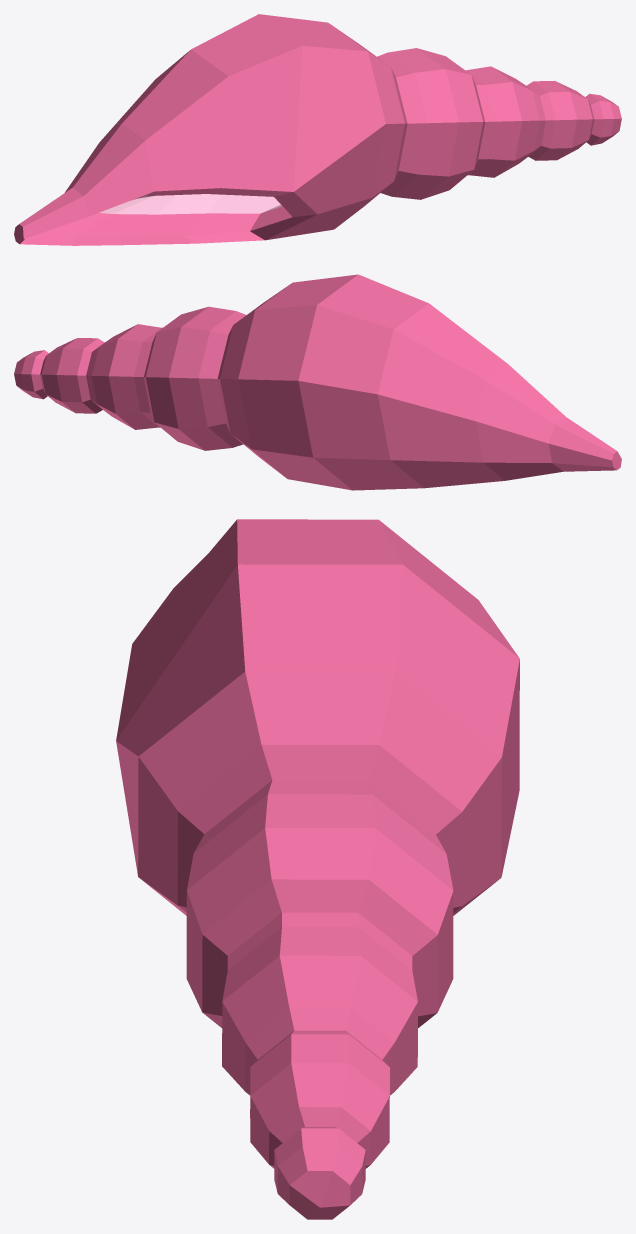
File: Coral_07.fbx
The picture shows the model from 3 angles, top to bottom: view 1: azimuth 30°, elevation 25°; view 2: azimuth 150°, elevation 25°; view 3: azimuth 270°, elevation 25°; orthographic projection. The views are drawn at different scales.
Visible parts, largest first — view 1: Coral_07; view 2: Coral_07; view 3: Coral_07.
Boxes of the visible parts, <box> form: Coral_07: <box>14,14,621,245</box>; Coral_07: <box>14,274,621,490</box>; Coral_07: <box>116,519,519,1219</box>.
Bounding box in the file's own units: 43.64 × 13 × 12.95.
